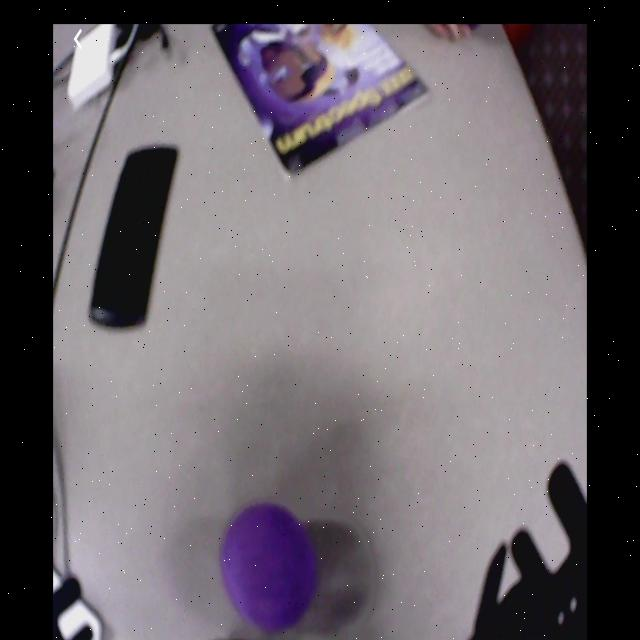ball: (221, 504, 316, 637)
